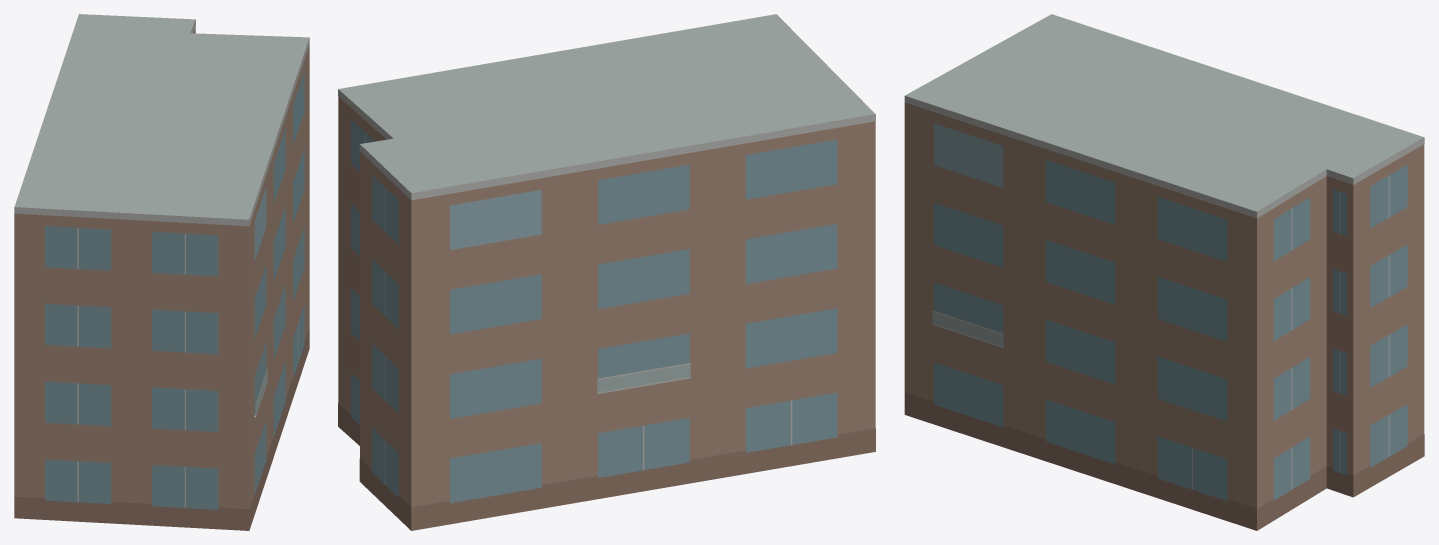
Rendered from survey-upis-32772902.glb.
The picture shows the model from 3 angles, left to right: view 1: azimuth 30°, elevation 25°; view 2: azimuth 150°, elevation 25°; view 3: azimuth 270°, elevation 25°; orthographic projection. The views are drawn at different scales.
Visible parts, largest first — view 1: survey-upis-32772902.tmp; view 2: survey-upis-32772902.tmp; view 3: survey-upis-32772902.tmp.
Part boxes in pixels (<box>): survey-upis-32772902.tmp: <box>14,14,309,530</box>; survey-upis-32772902.tmp: <box>338,14,875,530</box>; survey-upis-32772902.tmp: <box>904,14,1424,530</box>.
Size of the model in its own units: 15.43 by 11.6 by 17.13.
